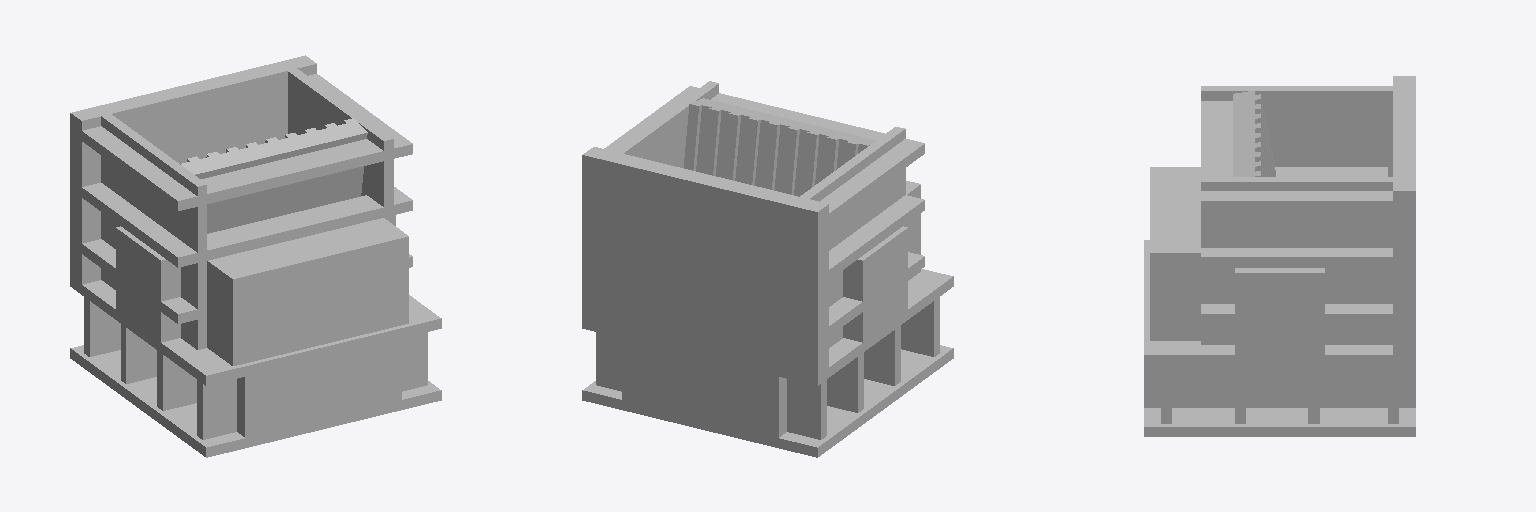
Rendered from large_crusher.obj.
3 views of the same model, side by side, from view 1: azimuth 30°, elevation 25°; view 2: azimuth 150°, elevation 25°; view 3: azimuth 270°, elevation 25° (orthographic).
Parts seen in each view (by area): view 1: cube; view 2: cube; view 3: cube.
Boxes of the visible parts, x1=… form: cube: x1=70, y1=55, x2=441, y2=457; cube: x1=582, y1=81, x2=953, y2=457; cube: x1=1144, y1=76, x2=1415, y2=436.
Bounding box in the file's own units: 3 × 3.01 × 3.